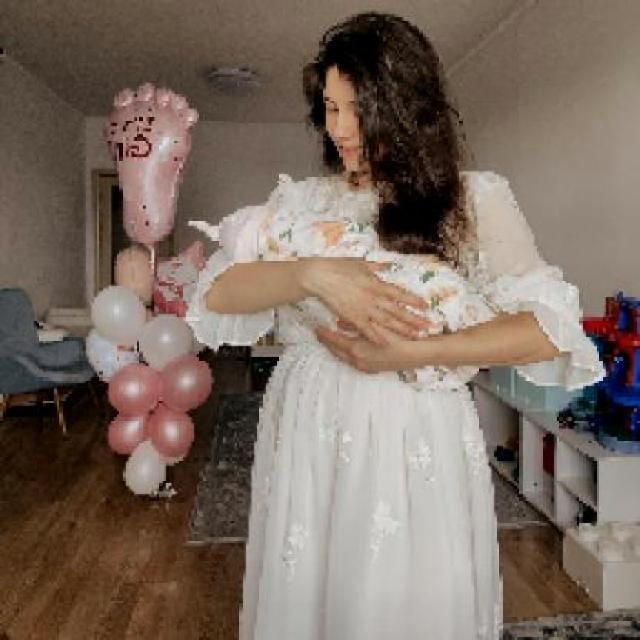child: (220, 201, 497, 396)
